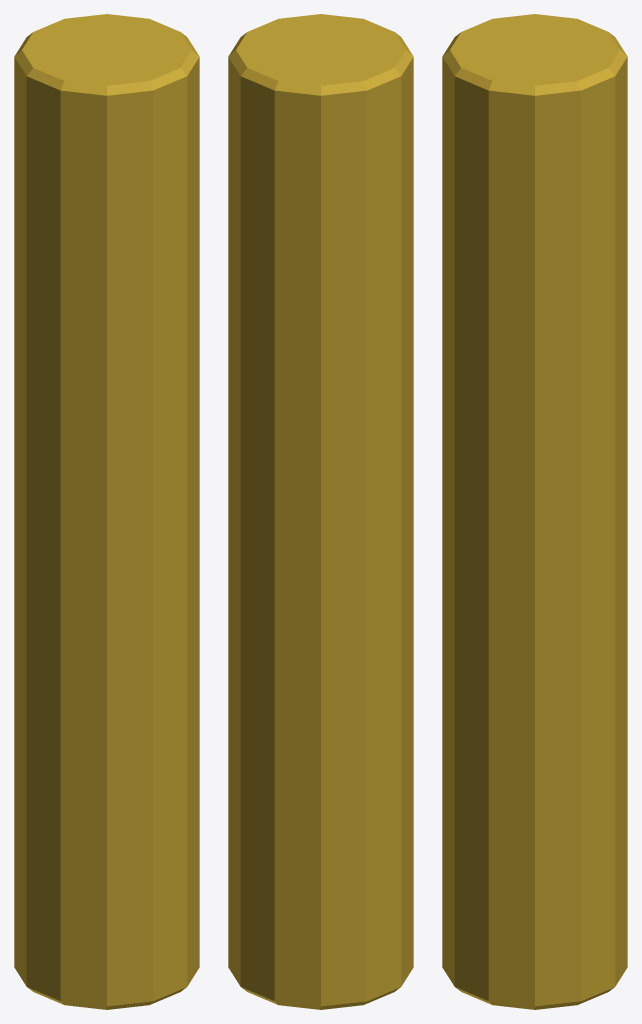
Rendered from MW_BOLLARD_LODs.fbx.
3 views of the same model, side by side, from view 1: azimuth 30°, elevation 25°; view 2: azimuth 150°, elevation 25°; view 3: azimuth 270°, elevation 25° (orthographic).
Visible parts, largest first — view 1: MW_BOLLARD_LOD0; view 2: MW_BOLLARD_LOD0; view 3: MW_BOLLARD_LOD0.
Part boxes in pixels (x1,y1,x2,y2): MW_BOLLARD_LOD0: (14, 14, 199, 1009); MW_BOLLARD_LOD0: (228, 14, 413, 1009); MW_BOLLARD_LOD0: (442, 14, 627, 1009).
Size of what is drawn, in the model's own units: 0.2 by 1.1 by 0.2.
